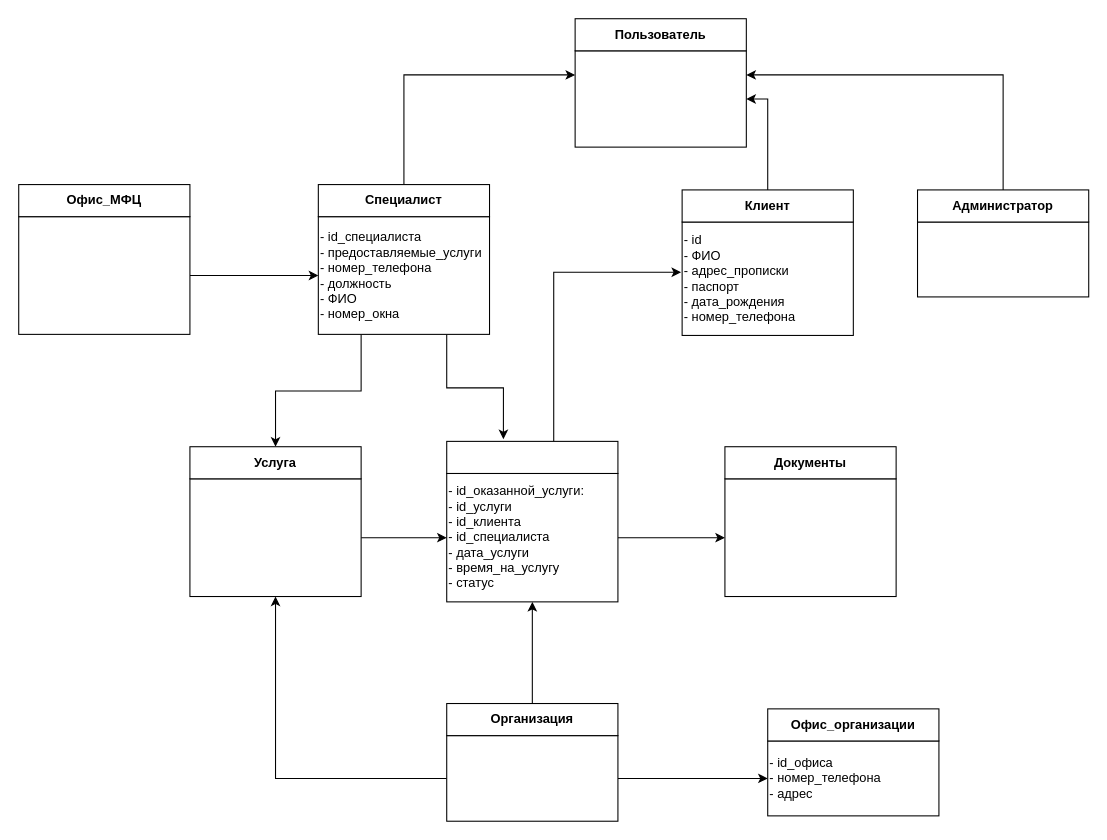
The diagram is 1107 pixels wide and 840 high, and some of its shapes have lost their labels. The box of each missing label's shape, as (x1, y1, x2, y2) in pixels:
- id - почта - пароль - онлайн - дата_регистрации: (574, 50, 746, 147)
- id - ФИО - номер_телефона: (916, 221, 1089, 297)
- id_оказанной_услуги - документы: (724, 478, 896, 597)
- id_организации -предоставляемые_услуги: (446, 735, 618, 821)
- id_офиса - id_специалистов - номер_телефона - адрес: (18, 216, 190, 334)
- id_услуги - id_организации - id_специалистов - время_на_услугу - статус: (189, 478, 361, 597)
Оказаная_услуга: (446, 440, 618, 473)
